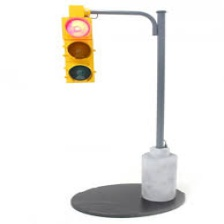semaforo: (61, 15, 97, 82)
